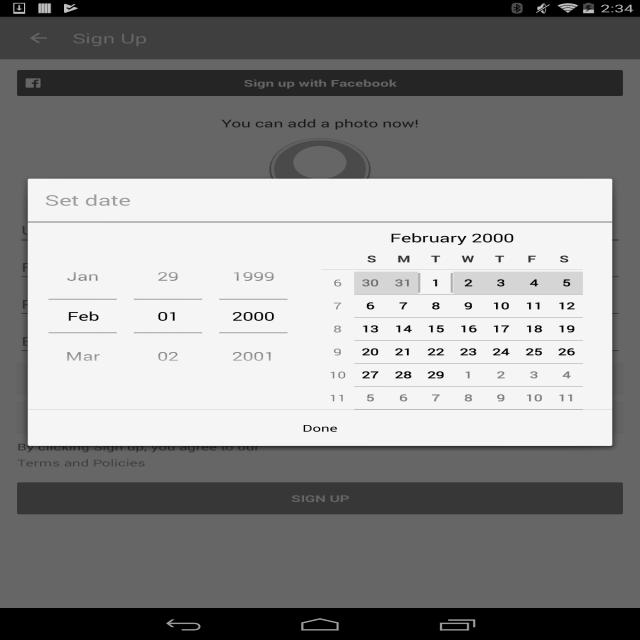Button: (28, 410, 612, 446), (48, 256, 117, 300), (48, 332, 117, 376), (219, 256, 288, 300), (219, 332, 288, 376), (134, 256, 202, 300), (134, 332, 202, 376)
EditText: (48, 300, 117, 332), (219, 300, 288, 332), (134, 300, 202, 332)
ImageView: (322, 269, 583, 270)
TextView: (45, 190, 595, 210), (390, 223, 514, 252), (419, 252, 452, 265), (548, 252, 581, 265), (324, 252, 356, 265), (356, 252, 388, 265), (388, 252, 420, 265), (452, 252, 484, 265), (484, 252, 516, 265), (516, 252, 548, 265)
